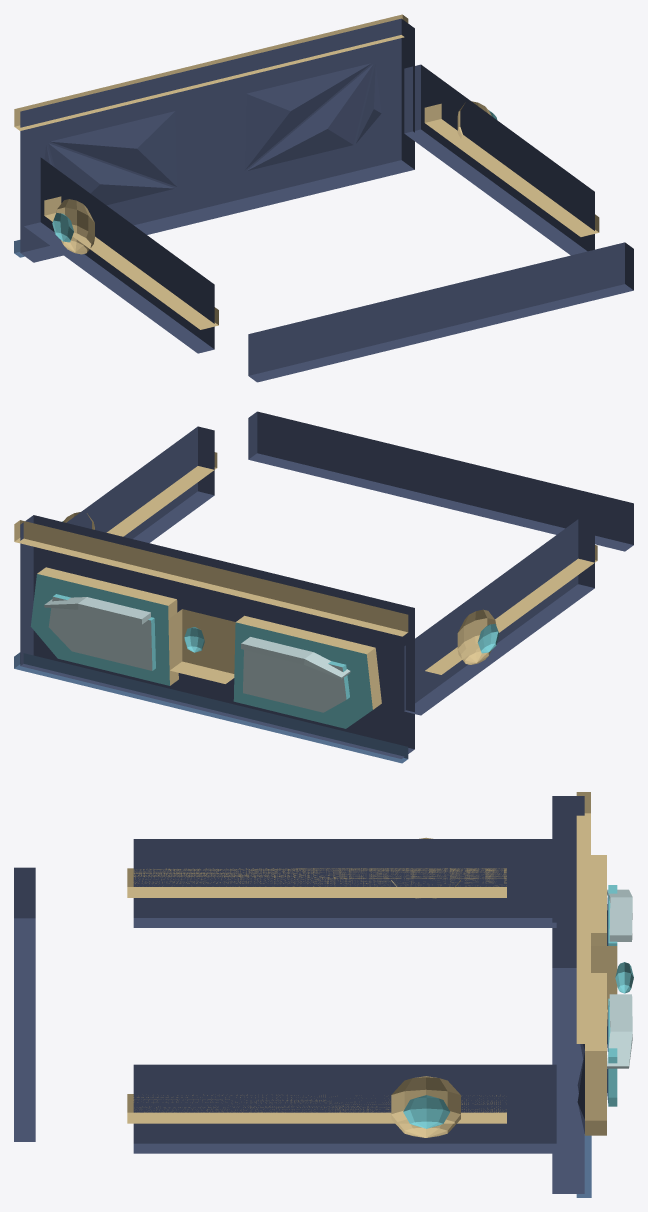
Rendered from aurora_visor.glb.
3 views of the same model, one above another, from view 1: azimuth 30°, elevation 25°; view 2: azimuth 150°, elevation 25°; view 3: azimuth 270°, elevation 25° (orthographic). The views are drawn at different scales.
Parts seen in each view (by area): view 1: head; view 2: head; view 3: head.
Boxes of the visible parts, box(x1,y1,x2,y2) form: head: box(14, 14, 633, 382); head: box(14, 411, 633, 763); head: box(14, 792, 633, 1197).
Size of the model in its own units: 9.86 by 3.11 by 9.96.
